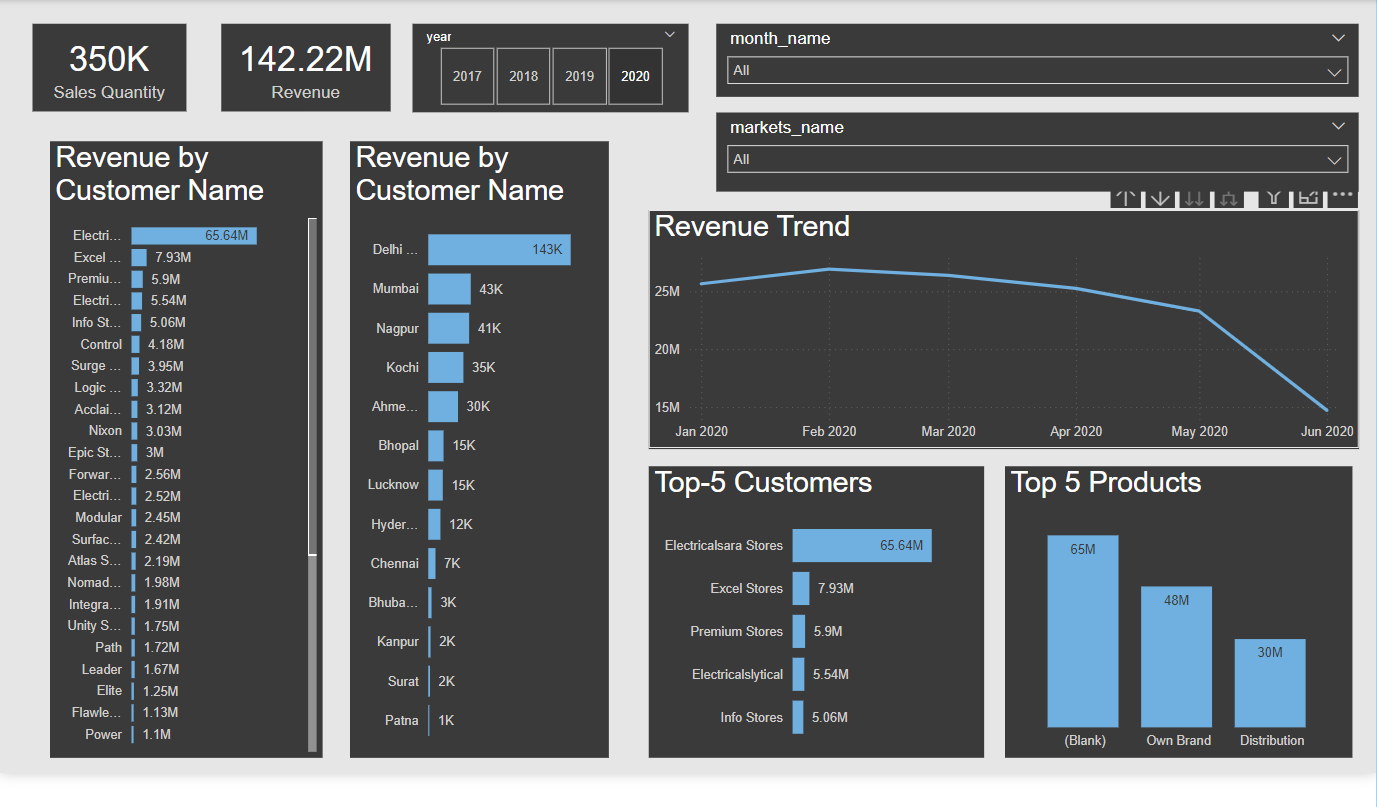

This screenshot's page, from the dashboard's own definition file:
{"tool":"powerbi","page":{"name":"Page 1","canvas":[1280,720],"ordinal":0},"visuals":[{"type":"card","fields":{"Values":["Base Measure.Sales Quantity"]},"box":[30.2,22.4,143,81.7],"z":0},{"type":"card","fields":{"Values":["Base Measure.Revenue"]},"box":[206.2,22.4,157.6,81.7],"z":1000},{"type":"barChart","title":"Revenue by Customer Name","fields":{"Category":["sales customers.custmer_name"],"Y":["Base Measure.Revenue"]},"box":[46.7,131.1,253.3,573.3],"z":2000},{"type":"slicer","fields":{"Values":["sales date.year"]},"box":[383.3,22.2,256.7,82.2],"z":3000},{"type":"slicer","fields":{"Values":["sales date.month_name"]},"box":[666.7,22.2,597.8,67.8],"z":4000},{"type":"barChart","title":"Revenue by Customer Name","fields":{"Category":["sales markets.markets_name"],"Y":["Base Measure.Sales Quantity"]},"box":[325.6,131.1,241.1,573.3],"z":5000},{"type":"barChart","title":"Top-5 Customers","fields":{"Category":["sales customers.custmer_name"],"Y":["Base Measure.Revenue"]},"box":[603.3,433.3,312.2,271.1],"z":6000},{"type":"columnChart","title":"Top 5 Products","fields":{"Category":["sales products.product_type"],"Y":["Base Measure.Revenue"]},"box":[934.4,433.3,323.3,271.1],"z":7000},{"type":"lineChart","title":"Revenue Trend","fields":{"Category":["sales date.cy_date.Variation.Date Hierarchy.Year","sales date.cy_date.Variation.Date Hierarchy.Quarter","sales date.cy_date.Variation.Date Hierarchy.Month","sales date.cy_date.Variation.Date Hierarchy.Day"],"Y":["Base Measure.Revenue"]},"box":[603.3,195.6,661.1,222.2],"z":8000},{"type":"slicer","fields":{"Values":["sales markets.markets_name"]},"box":[666.7,104.4,597.8,73.3],"z":9000}]}

Visuals, with their boxes in screenshot pixels (x1, y1, x2, y2):
card - Base Measure.Sales Quantity: left=36, top=20, right=187, bottom=107
card - Base Measure.Revenue: left=222, top=20, right=390, bottom=107
"Revenue by Customer Name" barChart: left=53, top=135, right=322, bottom=744
slicer - sales date.year: left=410, top=20, right=683, bottom=107
slicer - sales date.month_name: left=711, top=20, right=1345, bottom=92
"Revenue by Customer Name" barChart: left=349, top=135, right=605, bottom=744
"Top-5 Customers" barChart: left=644, top=456, right=975, bottom=744
"Top 5 Products" columnChart: left=995, top=456, right=1338, bottom=744
"Revenue Trend" lineChart: left=644, top=204, right=1345, bottom=440
slicer - sales markets.markets_name: left=711, top=107, right=1345, bottom=185
